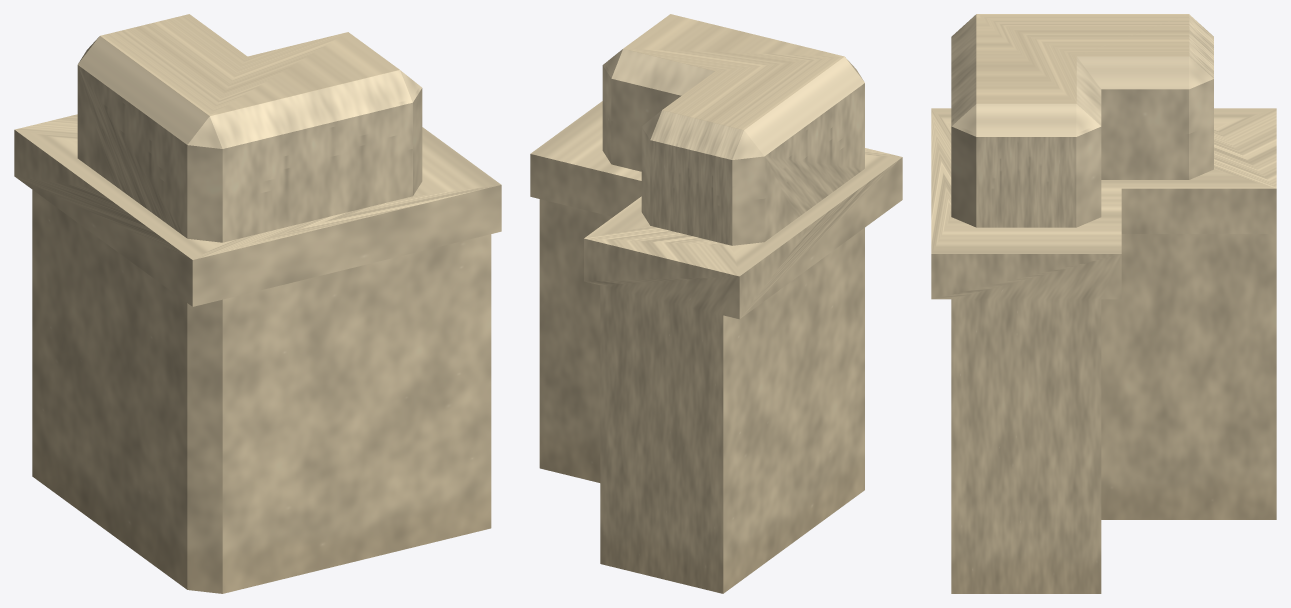
The picture shows the model from 3 angles, left to right: view 1: azimuth 30°, elevation 25°; view 2: azimuth 150°, elevation 25°; view 3: azimuth 270°, elevation 25°; orthographic projection. The views are drawn at different scales.
Parts seen in each view (by area): view 1: wall; view 2: wall; view 3: wall.
Part boxes in pixels (x1=…): wall: x1=14, y1=14, x2=501, y2=593; wall: x1=530, y1=14, x2=902, y2=593; wall: x1=931, y1=14, x2=1276, y2=593.
Size of the model in its own units: 0.69 by 1 by 0.69.
1 material, 1 textured.
